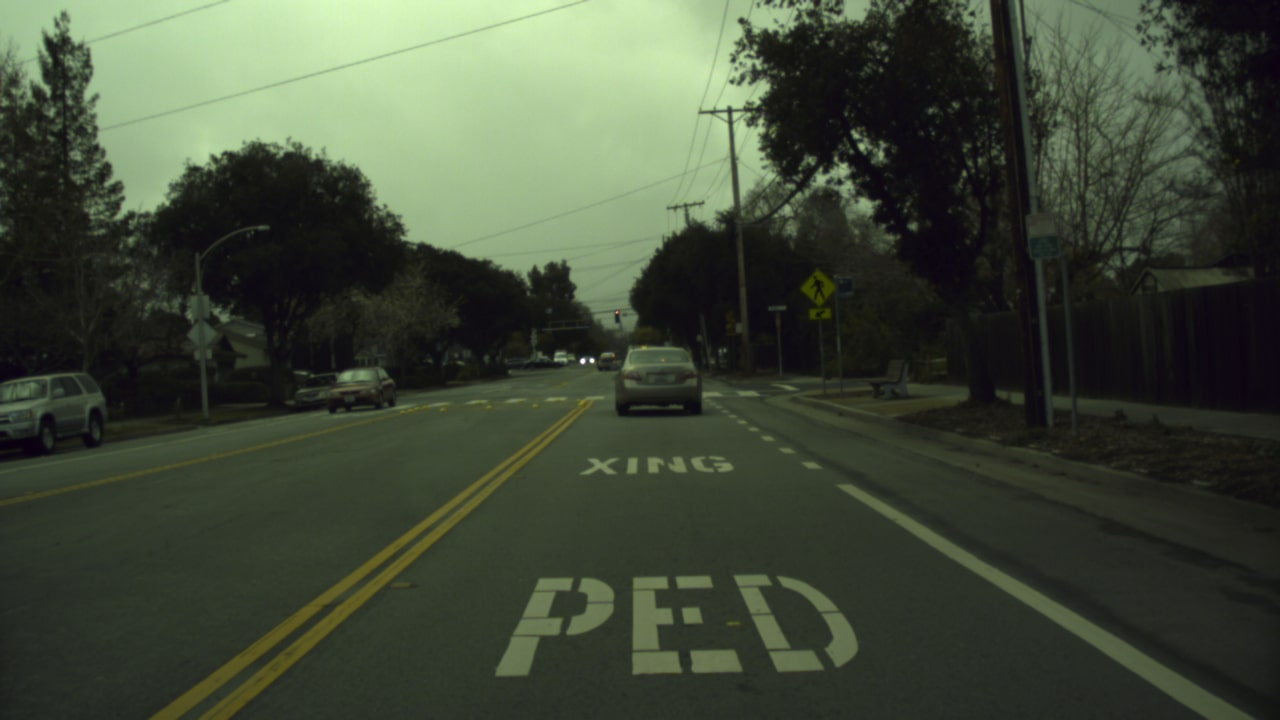signal: (612, 307, 622, 325)
